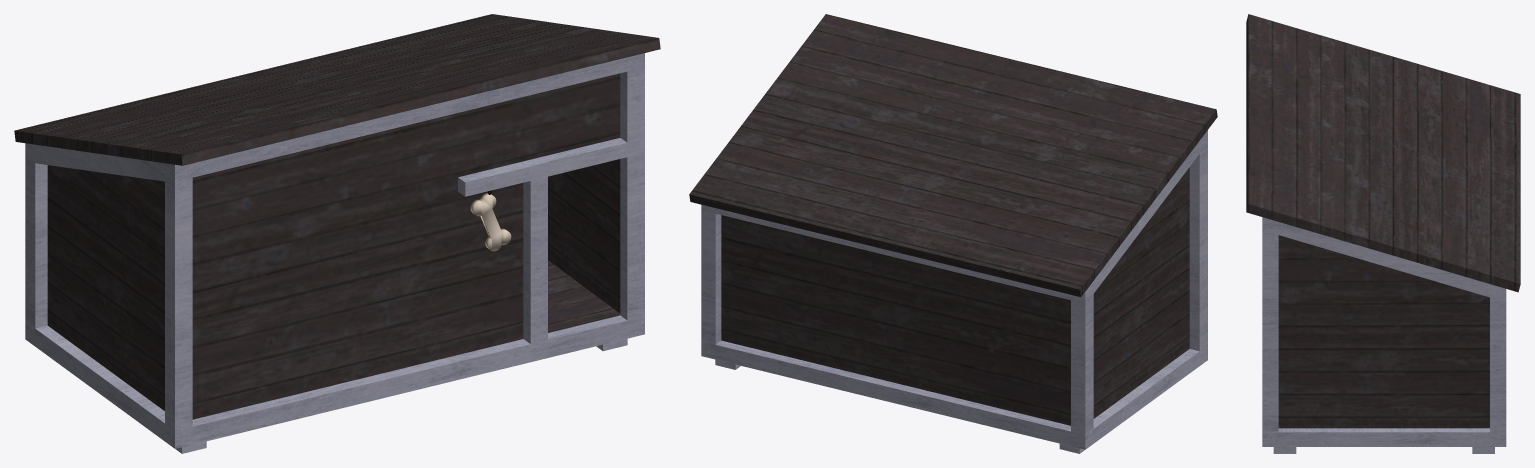
File: dog_house_3.FBX
3 renders of one model, left to right at view 1: azimuth 30°, elevation 25°; view 2: azimuth 150°, elevation 25°; view 3: azimuth 270°, elevation 25°, orthographic. The views are drawn at different scales.
Parts seen in each view (by area): view 1: doghouse_3; view 2: doghouse_3; view 3: doghouse_3.
Boxes of the visible parts, left/top/right/bottom form: doghouse_3: left=14, top=14, right=660, bottom=453; doghouse_3: left=689, top=14, right=1217, bottom=453; doghouse_3: left=1246, top=14, right=1520, bottom=453.
Bounding box in the file's own units: 215 × 135 × 131.
1 material, 1 textured.
